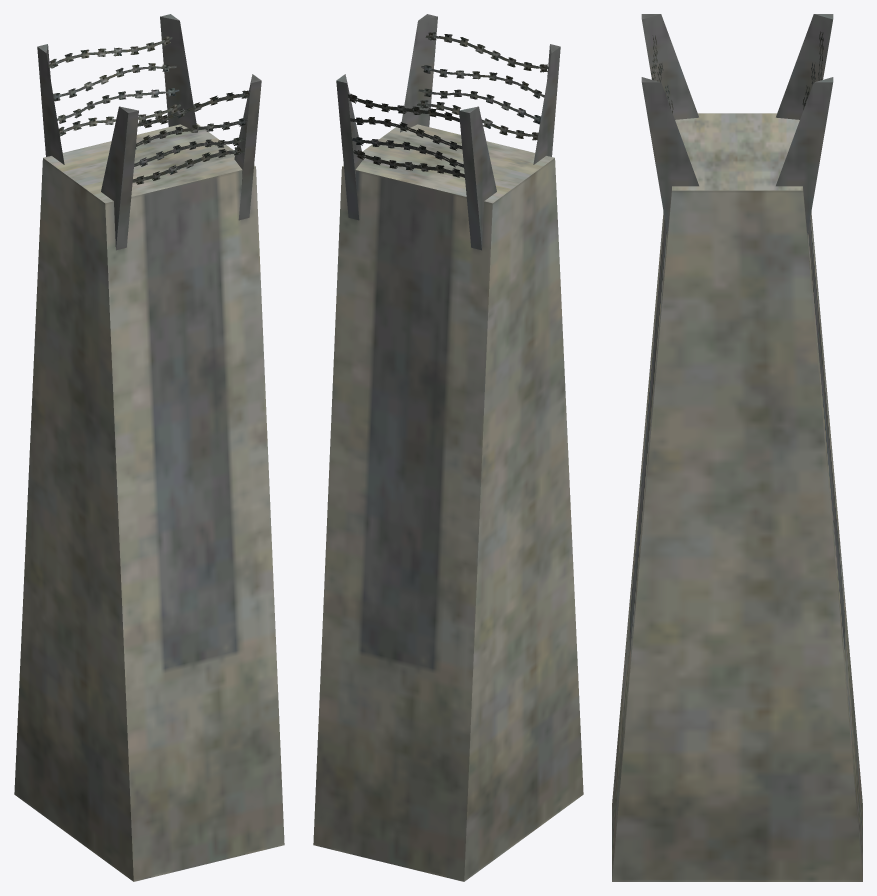
The model's file is thm_corl_imprv_column_s03_l1.fbx.
3 views of the same model, side by side, from view 1: azimuth 30°, elevation 25°; view 2: azimuth 150°, elevation 25°; view 3: azimuth 270°, elevation 25° (orthographic). The views are drawn at different scales.
Parts seen in each view (by area): view 1: mesh_node; view 2: mesh_node; view 3: mesh_node.
Boxes of the visible parts, x1,y1,x2,y2 form: mesh_node: (14, 14, 284, 881); mesh_node: (313, 14, 583, 881); mesh_node: (612, 14, 862, 881).
Size of the model in its own units: 1.2 by 5.75 by 1.64.
